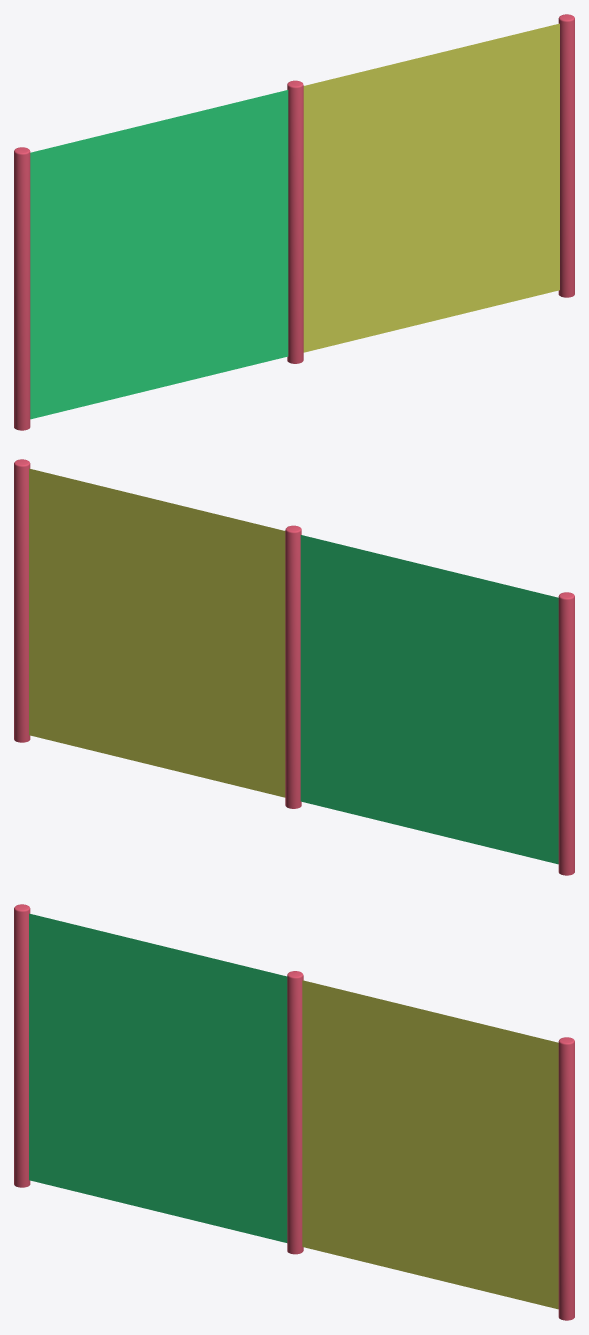
File: M_lens2.fbx
3 renders of one model, top to bottom at view 1: azimuth 30°, elevation 25°; view 2: azimuth 150°, elevation 25°; view 3: azimuth 330°, elevation 25°, orthographic.
Visible parts, largest first — view 1: Lens; view 2: Lens; view 3: Lens.
Part boxes in pixels (x1,y1,x2,y2): Lens: (14, 14, 574, 430); Lens: (14, 459, 574, 875); Lens: (14, 904, 574, 1320).
Size of the model in its own units: 3.48 by 1.65 by 0.0881.
